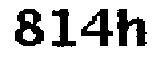1: (48, 6, 79, 55)
4: (80, 7, 115, 48)
8: (10, 8, 44, 49)
h: (114, 6, 151, 55)
